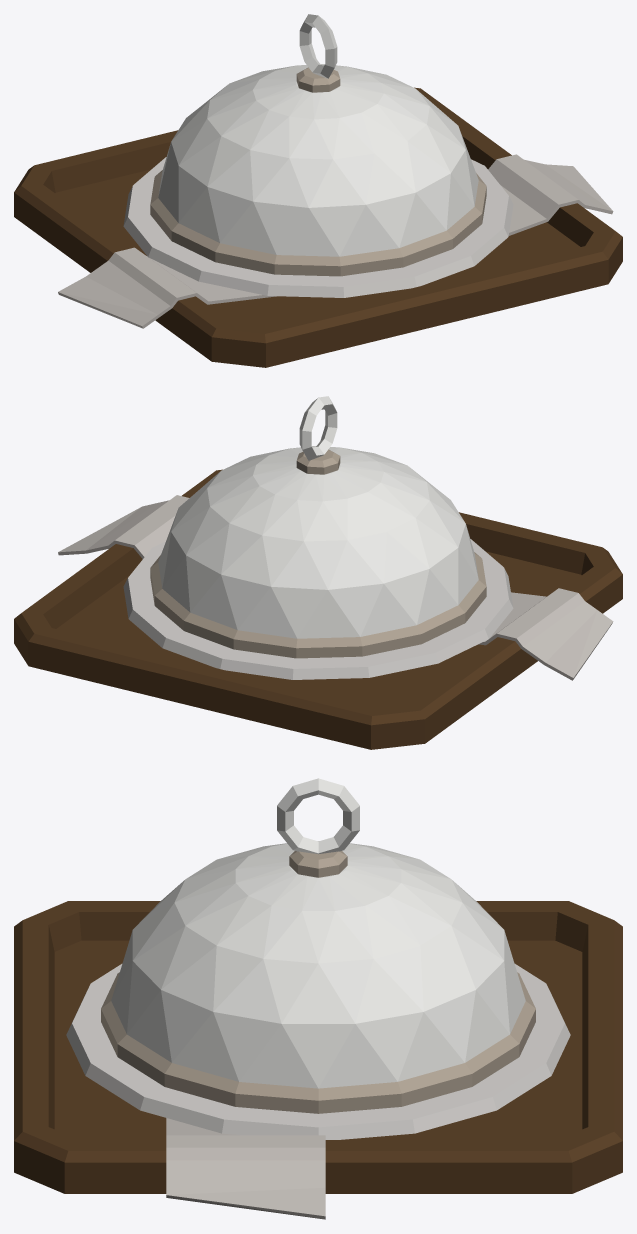
File: podnos_krishka.glb
3 views of the same model, one above another, from view 1: azimuth 30°, elevation 25°; view 2: azimuth 150°, elevation 25°; view 3: azimuth 270°, elevation 25° (orthographic). The views are drawn at different scales.
Parts seen in each view (by area): view 1: mesh_0, cloche; view 2: mesh_0, cloche; view 3: mesh_0, cloche.
Boxes of the visible parts, left/top/right/bottom form: mesh_0: left=14, top=87, right=622, bottom=367; cloche: left=150, top=14, right=486, bottom=276; mesh_0: left=14, top=469, right=622, bottom=749; cloche: left=150, top=396, right=486, bottom=658; mesh_0: left=14, top=901, right=622, bottom=1219; cloche: left=101, top=778, right=535, bottom=1113.
Bounding box in the file's own units: 0.5267 × 0.2184 × 0.42.
